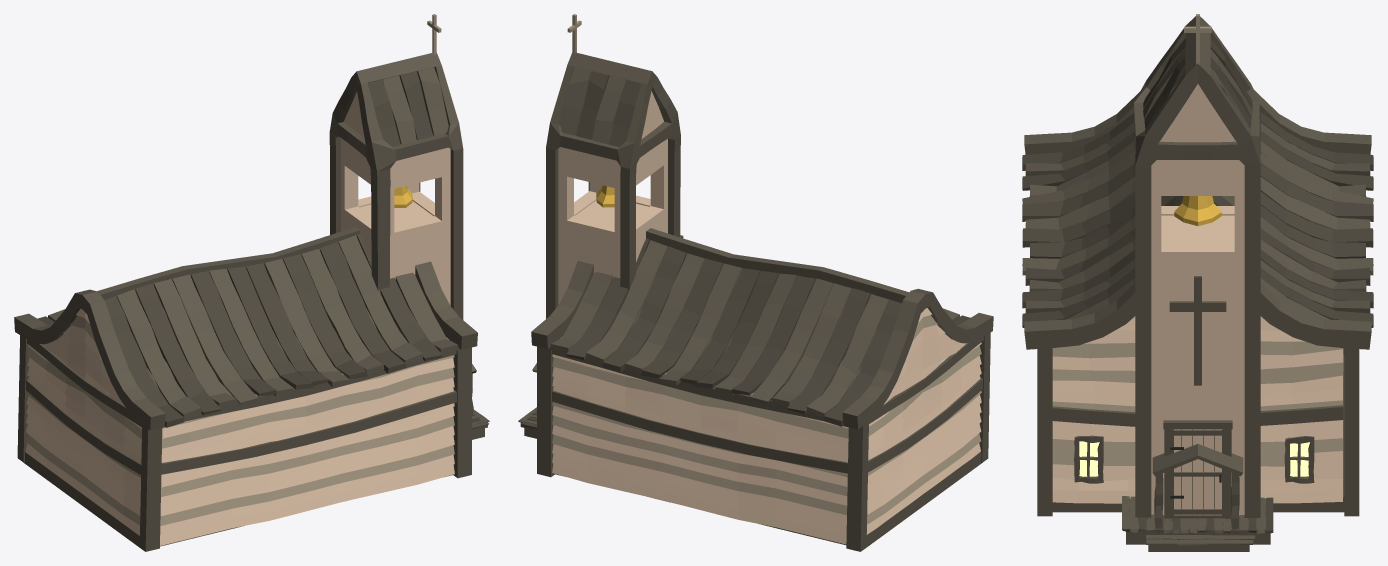
Rendered from hotel.glb.
3 views of the same model, side by side, from view 1: azimuth 30°, elevation 25°; view 2: azimuth 150°, elevation 25°; view 3: azimuth 270°, elevation 25° (orthographic). The views are drawn at different scales.
Parts seen in each view (by area): view 1: Cube.008; view 2: Cube.008; view 3: Cube.008, DoorPanel, DoorFrame.
Part boxes in pixels (box(x1,y1,x2,y2)): Cube.008: box(14, 14, 489, 551); Cube.008: box(518, 14, 993, 551); Cube.008: box(1022, 14, 1373, 551); DoorPanel: box(1170, 429, 1225, 515); DoorFrame: box(1163, 420, 1232, 518).
Bounding box in the file's own units: 14.89 × 14.98 × 9.23.
